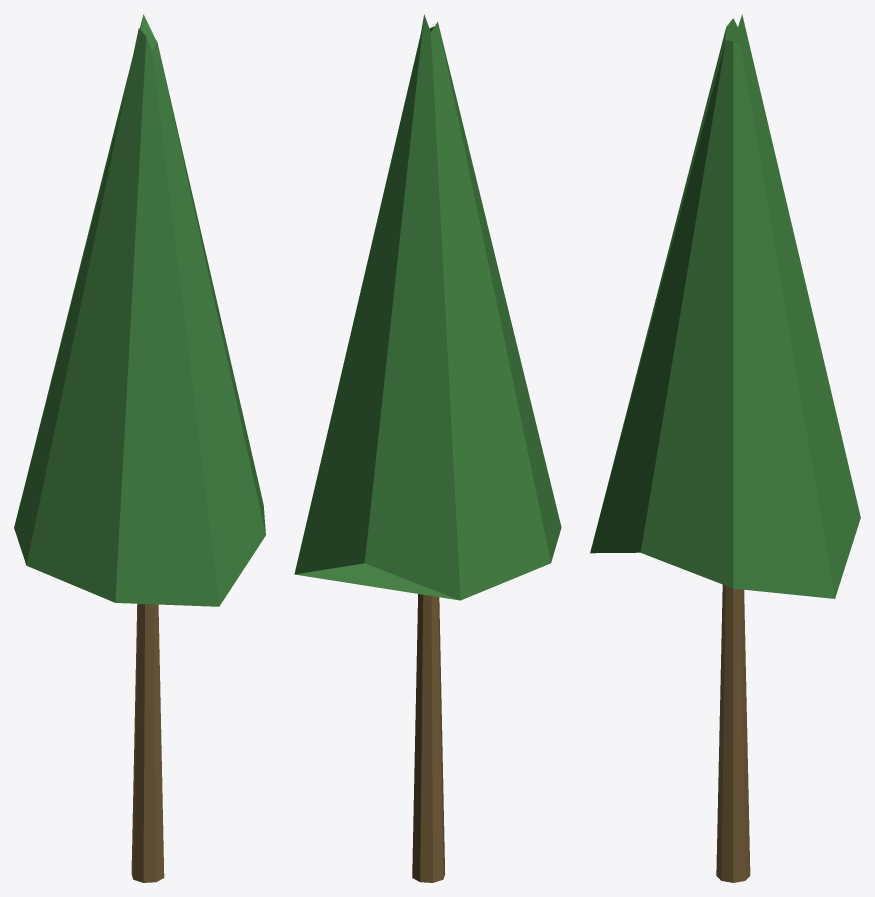
The model's file is pine_tree_2.glb.
3 views of the same model, side by side, from view 1: azimuth 30°, elevation 25°; view 2: azimuth 150°, elevation 25°; view 3: azimuth 270°, elevation 25° (orthographic).
Parts seen in each view (by area): view 1: pine_tree_2_canopy, pine_tree_2_trunk; view 2: pine_tree_2_canopy, pine_tree_2_trunk; view 3: pine_tree_2_canopy, pine_tree_2_trunk.
Boxes of the visible parts, x1,y1,x2,y2 form: pine_tree_2_canopy: (14, 14, 265, 606); pine_tree_2_trunk: (131, 603, 164, 882); pine_tree_2_canopy: (294, 14, 561, 600); pine_tree_2_trunk: (412, 594, 444, 882); pine_tree_2_canopy: (590, 14, 860, 598); pine_tree_2_trunk: (716, 585, 750, 882).
Bounding box in the file's own units: 2.94 × 10.18 × 2.9.
